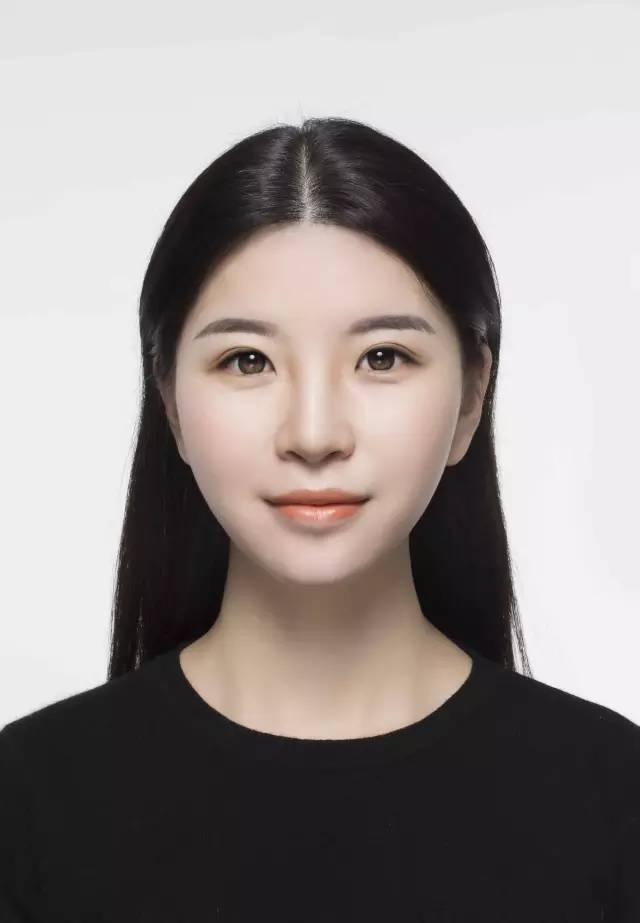unmask: (190, 242, 447, 577)
